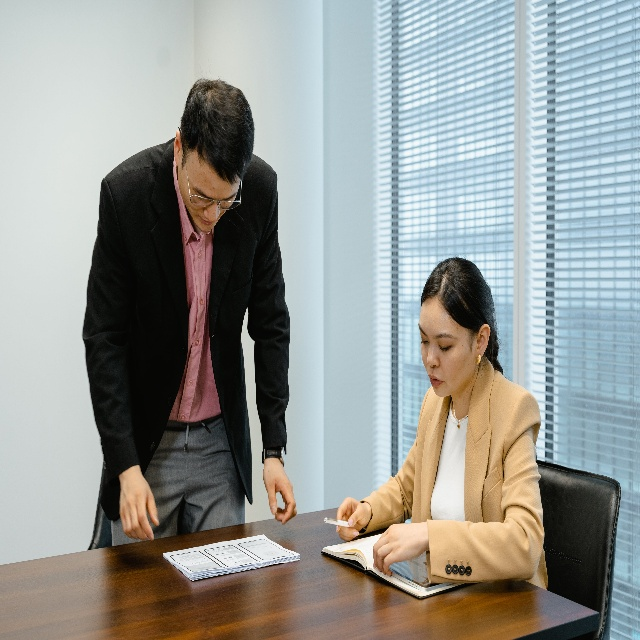Gafas: (178, 128, 242, 211)
Sin_guantes: (372, 522, 422, 578), (119, 472, 159, 541), (263, 457, 297, 525), (336, 497, 369, 542)
